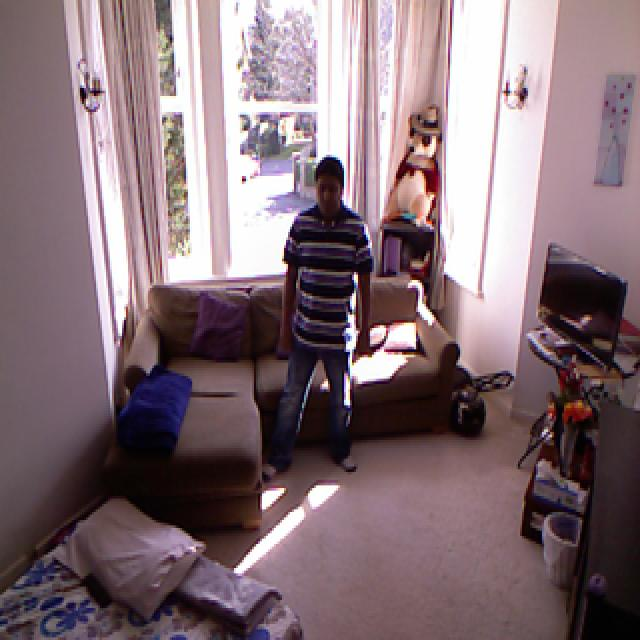standing: (263, 154, 376, 483)
